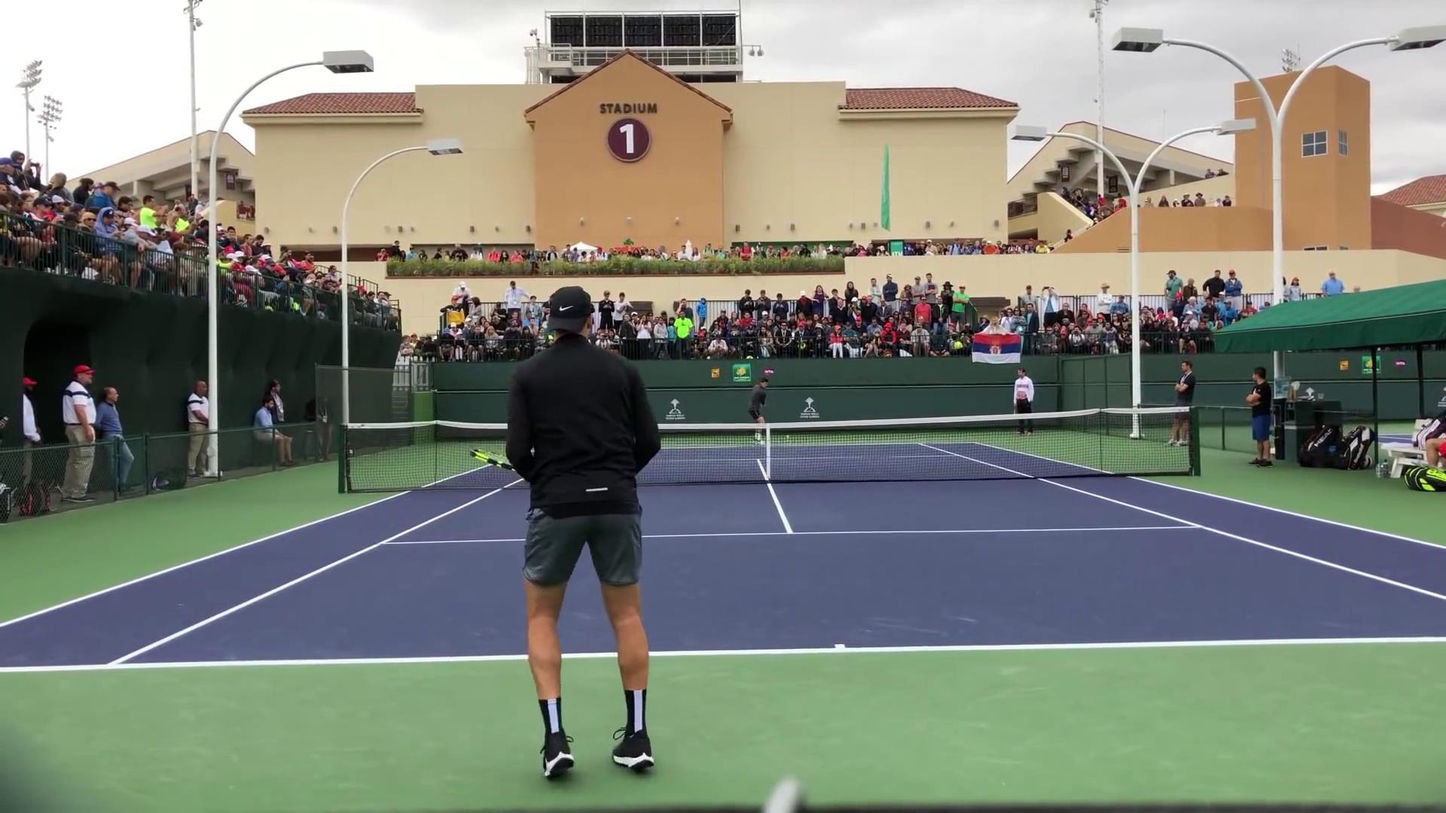ball: (782, 430, 794, 444)
